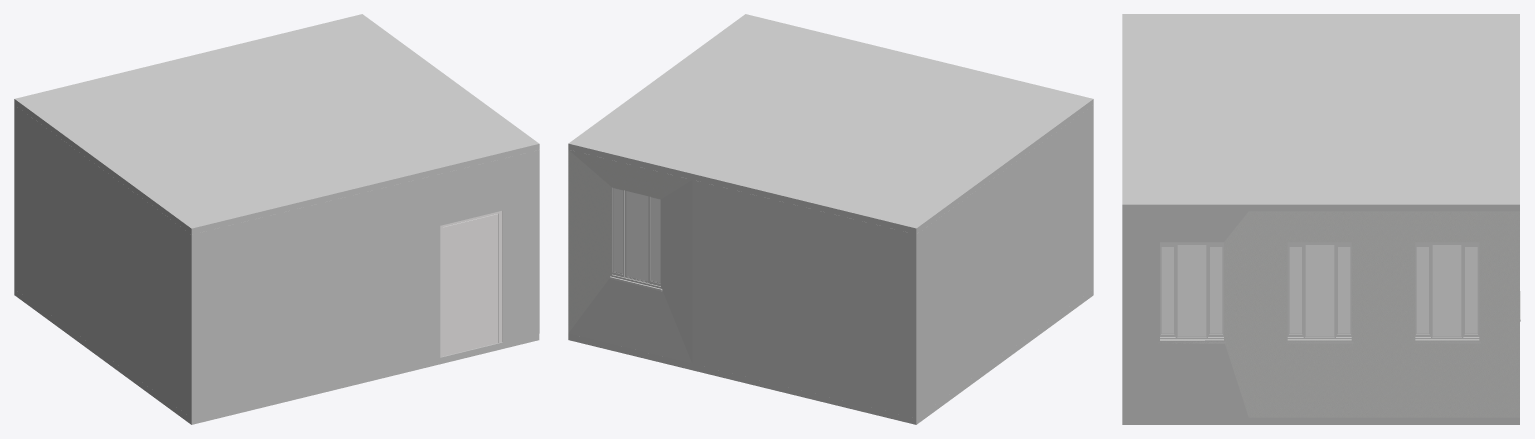
File: FloorPlan430_physics.fbx
3 renders of one model, left to right at view 1: azimuth 30°, elevation 25°; view 2: azimuth 150°, elevation 25°; view 3: azimuth 270°, elevation 25°, orthographic. The views are drawn at different scales.
Visible parts, largest first — view 1: FP430:Walls, FP430:Ceiling, FP430:Door.002, FP430:Floor, FP430:DoorFrame.002; view 2: FP430:Walls, FP430:Ceiling, FP430:Floor, FP430:polySurface127, FP430:polySurface133; view 3: FP430:Ceiling, FP430:Walls, FP430:polySurface134, FP430:polySurface141, FP430:polySurface152, FP430:Floor, FP430:polySurface147, FP430:polySurface140, FP430:polySurface154.
Boxes of the visible parts, bbox=[...] form: FP430:Walls: bbox=[14, 105, 539, 418]; FP430:Ceiling: bbox=[14, 14, 539, 234]; FP430:Door.002: bbox=[443, 214, 497, 356]; FP430:Floor: bbox=[14, 289, 539, 424]; FP430:DoorFrame.002: bbox=[440, 210, 502, 357]; FP430:Walls: bbox=[568, 105, 1093, 418]; FP430:Ceiling: bbox=[568, 14, 1093, 234]; FP430:Floor: bbox=[568, 289, 1093, 424]; FP430:polySurface127: bbox=[613, 188, 660, 282]; FP430:polySurface133: bbox=[609, 187, 662, 291]; FP430:Ceiling: bbox=[1122, 14, 1519, 211]; FP430:Walls: bbox=[1122, 211, 1519, 417]; FP430:polySurface134: bbox=[1416, 245, 1477, 336]; FP430:polySurface141: bbox=[1289, 245, 1350, 336]; FP430:polySurface152: bbox=[1161, 245, 1222, 336]; FP430:Floor: bbox=[1122, 417, 1519, 424]; FP430:polySurface147: bbox=[1286, 242, 1353, 343]; FP430:polySurface140: bbox=[1414, 242, 1480, 343]; FP430:polySurface154: bbox=[1159, 242, 1225, 343].
Size of the model in its own units: 583 by 315 by 515.
